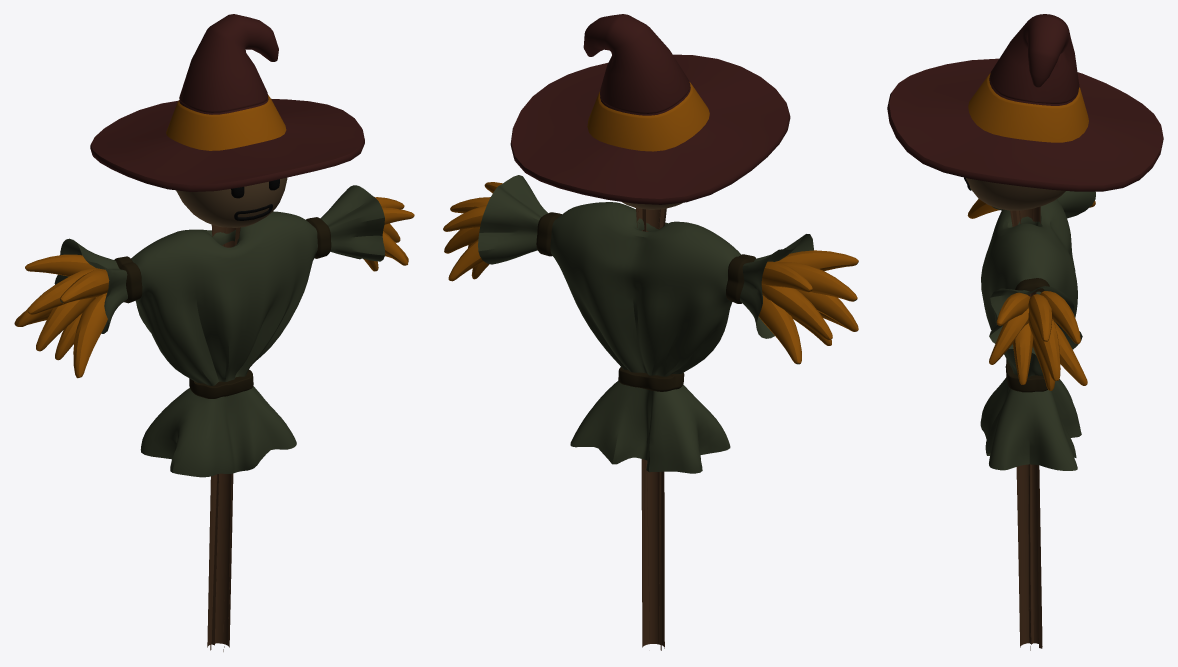
The model's file is scarecow_korkuluk.fbx.
The picture shows the model from 3 angles, left to right: view 1: azimuth 30°, elevation 25°; view 2: azimuth 150°, elevation 25°; view 3: azimuth 270°, elevation 25°; orthographic projection. The views are drawn at different scales.
Parts seen in each view (by area): view 1: scarecrow; view 2: scarecrow; view 3: scarecrow.
Part boxes in pixels (x1=…): scarecrow: x1=14, y1=14, x2=414, y2=651; scarecrow: x1=443, y1=14, x2=858, y2=650; scarecrow: x1=887, y1=14, x2=1163, y2=650.
Bounding box in the file's own units: 183 × 279 × 109.
